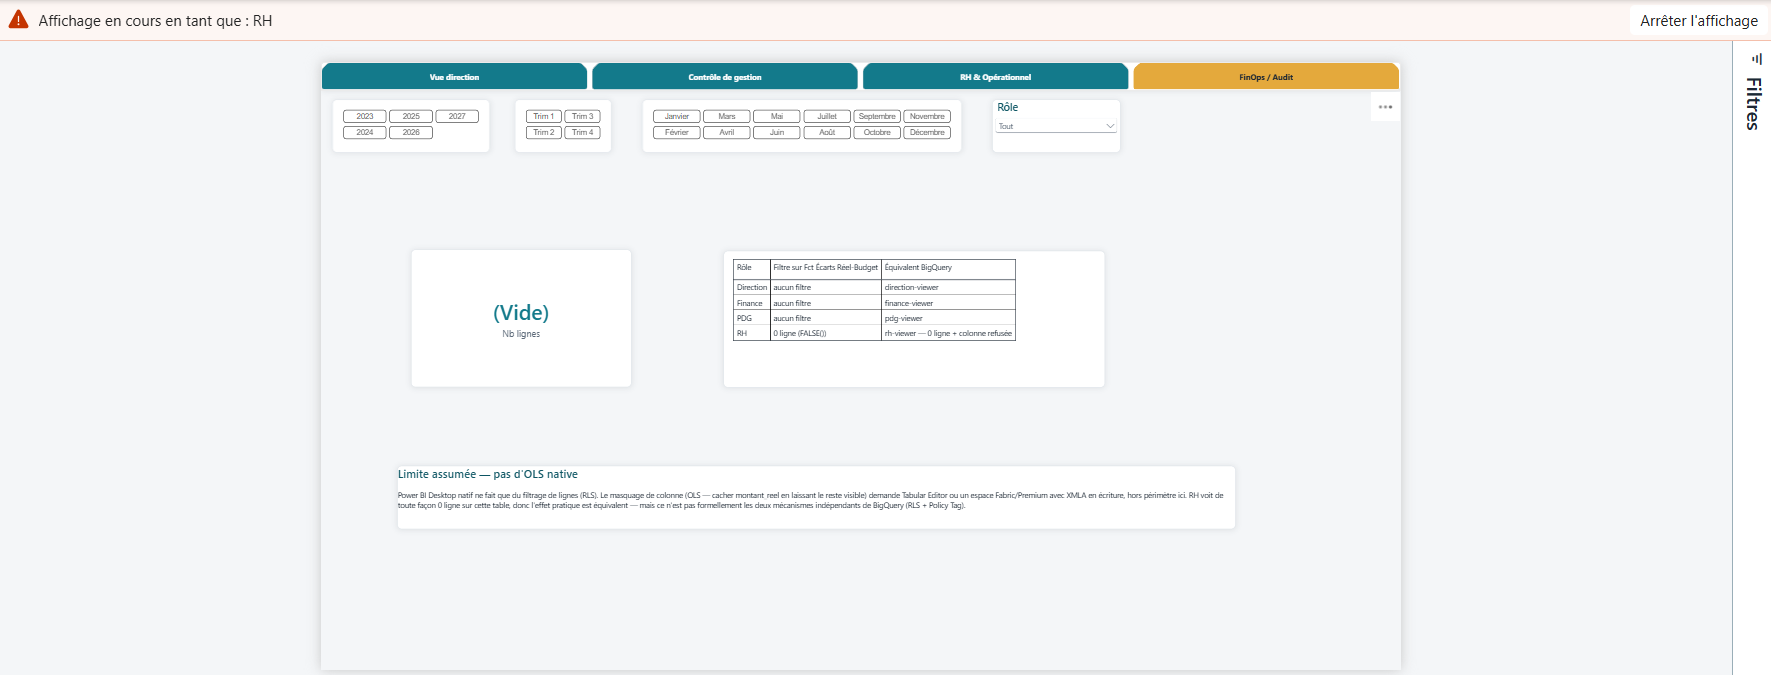

Layout of this report page (visuals, bound fields, positions):
{"tool":"powerbi","page":{"name":"FinOps / Audit","canvas":[1920,1080],"ordinal":3},"visuals":[{"type":"ChicletSlicer1448559807354","fields":{"Category":["Dim Date.Calendrier.Année"],"Values":["Min(Dim Date.date)"]},"box":[20,66,280,94],"z":0},{"type":"pageNavigator","box":[0,0,1920,50],"z":1000},{"type":"ChicletSlicer1448559807354","fields":{"Category":["Dim Date.Calendrier.Trimestre"]},"box":[344,66,172,94],"z":2000},{"type":"ChicletSlicer1448559807354","fields":{"Category":["Dim Date.Calendrier.Mois"]},"box":[572,66,568,94],"z":3000},{"type":"slicer","fields":{"Values":["Rôles RLS.Rôle"]},"box":[1194,66,228,94],"z":5000},{"type":"card","fields":{"Values":["Fct Écarts Réel-Budget.Nb lignes"]},"box":[160.2,333.6,392,245],"z":6001},{"type":"tableEx","fields":{"Values":["Rôles RLS.Rôle","Rôles RLS.Filtre sur Fct Écarts Réel-Budget","Rôles RLS.Équivalent BigQuery"]},"box":[716.1,335.5,678.4,243.1],"z":6002},{"type":"textbox","title":"Limite assumée — pas d''OLS native","box":[135.7,718,1490.7,113.1],"z":6003}]}

Visuals, with their boxes on the page's 1920x1080 design canvas (x1, y1, x2, y2). These are canvas units, not pixel positions in the 1771x675 screenshot, which may show the page scaled, cropped or inside an application window:
ChicletSlicer1448559807354 - Dim Date.Calendrier.Année x Min(Dim Date.date): crop(20, 66, 300, 160)
pageNavigator: crop(0, 0, 1920, 50)
ChicletSlicer1448559807354 - Dim Date.Calendrier.Trimestre: crop(344, 66, 516, 160)
ChicletSlicer1448559807354 - Dim Date.Calendrier.Mois: crop(572, 66, 1140, 160)
slicer - Rôles RLS.Rôle: crop(1194, 66, 1422, 160)
card - Fct Écarts Réel-Budget.Nb lignes: crop(160, 334, 552, 579)
tableEx - Rôles RLS.Rôle x Rôles RLS.Filtre sur Fct Écarts Réel-Budget: crop(716, 336, 1394, 579)
"Limite assumée — pas d''OLS native" textbox: crop(136, 718, 1626, 831)
